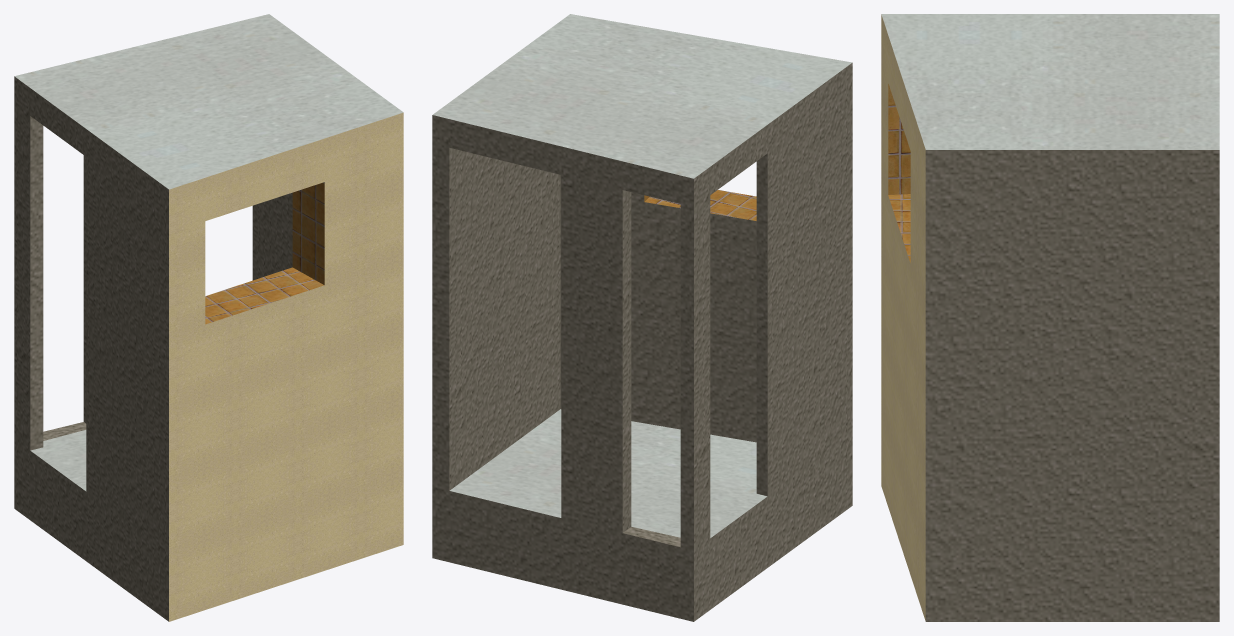
Rendered from salle2_rdc.obj.
The picture shows the model from 3 angles, left to right: view 1: azimuth 30°, elevation 25°; view 2: azimuth 150°, elevation 25°; view 3: azimuth 270°, elevation 25°; orthographic projection. The views are drawn at different scales.
Visible parts, largest first — view 1: Salle2_RDC_Cube.021; view 2: Salle2_RDC_Cube.021; view 3: Salle2_RDC_Cube.021.
Boxes of the visible parts, x1,y1,x2,y2 form: Salle2_RDC_Cube.021: [14, 14, 403, 621]; Salle2_RDC_Cube.021: [432, 14, 852, 621]; Salle2_RDC_Cube.021: [881, 14, 1219, 621].
Size of the model in its own units: 1.91 by 3.1 by 2.01.
